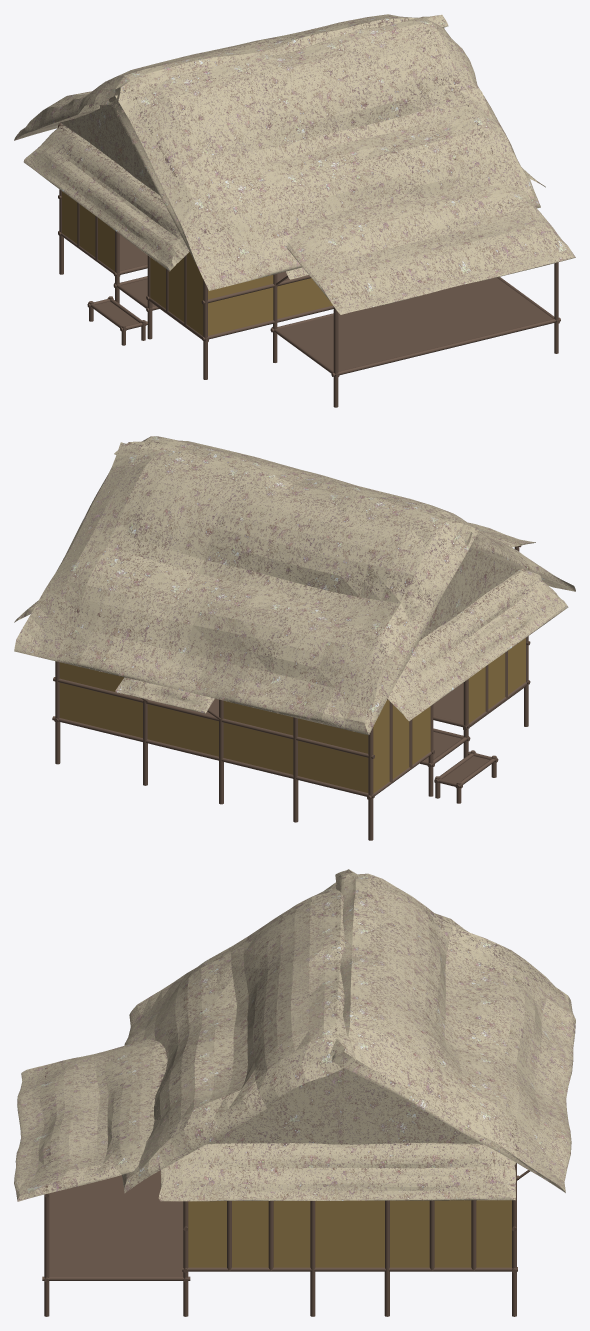
The picture shows the model from 3 angles, top to bottom: view 1: azimuth 30°, elevation 25°; view 2: azimuth 150°, elevation 25°; view 3: azimuth 270°, elevation 25°; orthographic projection. The views are drawn at different scales.
Visible parts, largest first — view 1: 2; view 2: 2; view 3: 2.
Part boxes in pixels (left/top/right/bottom): 2: left=14, top=14, right=575, bottom=407; 2: left=14, top=436, right=575, bottom=840; 2: left=14, top=869, right=575, bottom=1316.
Size of the model in its own units: 31.76 by 20.48 by 36.67.
5 materials, 5 textured.
